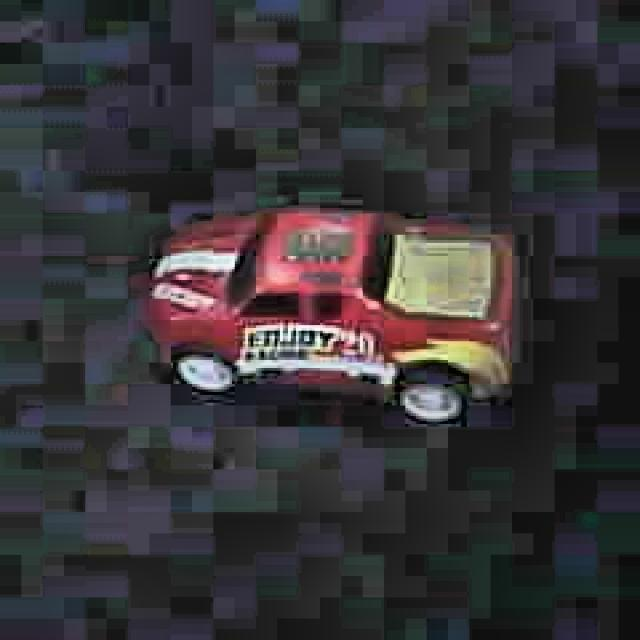car: (145, 198, 523, 432)
